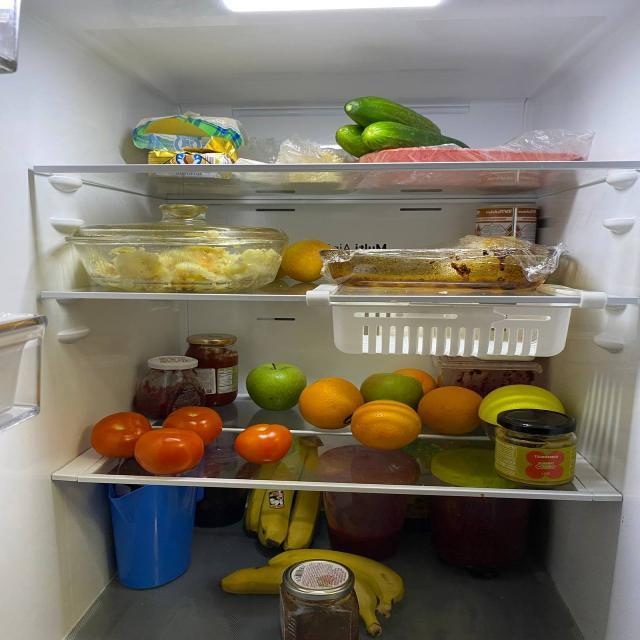Apple: (246, 358, 306, 409), (360, 374, 426, 407), (286, 239, 336, 282)
Banana: (208, 552, 408, 621), (245, 433, 327, 549)
Cucumber: (340, 99, 458, 129), (363, 122, 477, 145), (339, 125, 381, 153)
Orange: (348, 401, 430, 450), (296, 375, 371, 427), (418, 387, 490, 435), (398, 367, 436, 395)
Tomato: (86, 408, 148, 464), (136, 427, 206, 472), (231, 424, 293, 462), (160, 404, 222, 441)
